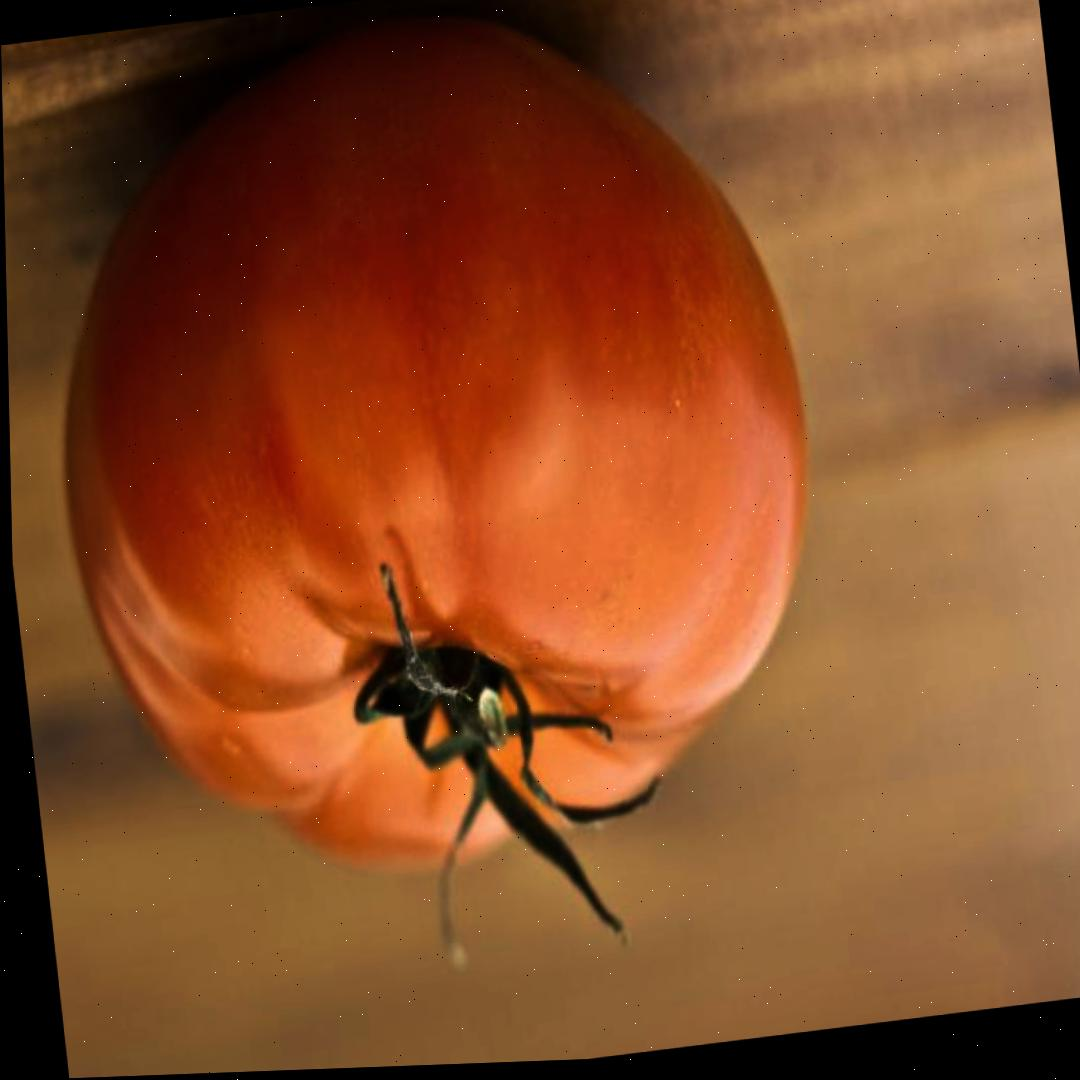matang: (18, 0, 846, 911)
